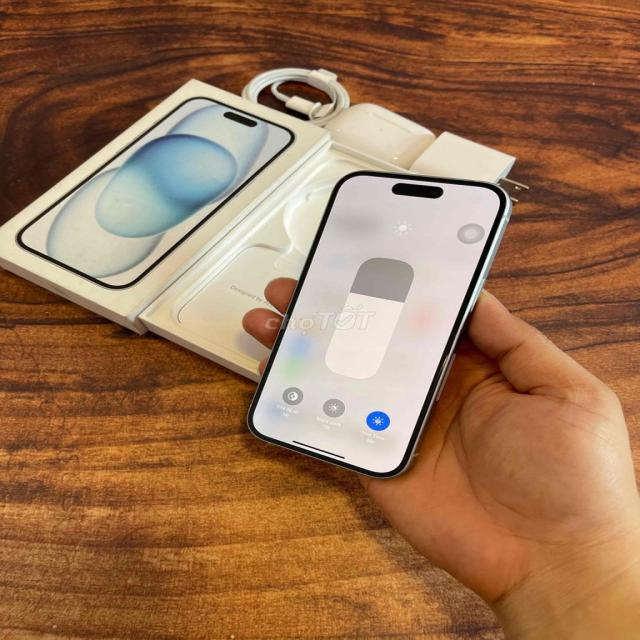gen_12_13: (245, 158, 513, 484)
